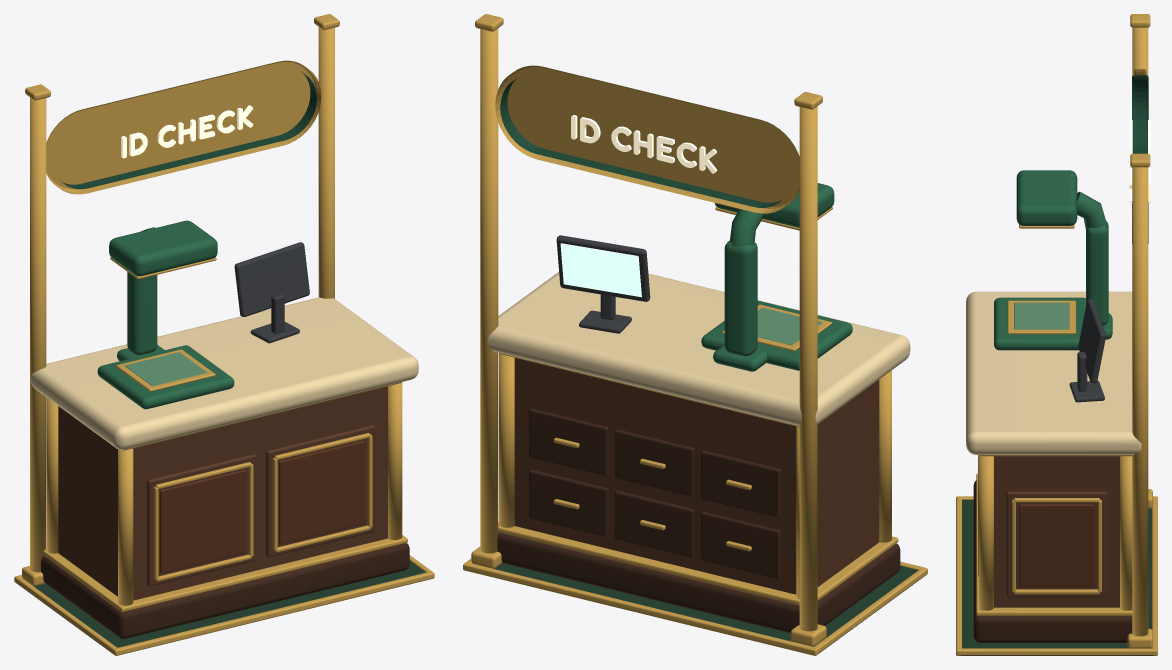
Rendered from security_booth_tier3.glb.
3 renders of one model, left to right at view 1: azimuth 30°, elevation 25°; view 2: azimuth 150°, elevation 25°; view 3: azimuth 270°, elevation 25°, orthographic. The views are drawn at different scales.
Visible parts, largest first — view 1: Top, Body, SignBorder, Plinth, RearPost-1, Front0Inset, Front1Inset, RearPost1, LampHead, Monitor, PlinthBrass, Mat (+13 smaller); view 2: Body, Top, SignBorder, Plinth, RearPost-1, RearPost1, PlinthBrass, Drawer20, Drawer21, Drawer01, Drawer10, Drawer11 (+18 smaller); view 3: Top, Body, RearPost1, EndInset, Plinth, Mat, LampHead, End, ScanPad, Column1-1, Column11, ArmCol (+17 smaller).
Part boxes in pixels (box(x1,y1,x2,y2)): Top: box(30, 297, 418, 449); Body: box(58, 386, 387, 600); SignBorder: box(46, 60, 321, 194); Plinth: box(41, 543, 409, 638); RearPost-1: box(30, 97, 46, 572); Front0Inset: box(160, 469, 246, 573); Front1Inset: box(279, 440, 365, 544); RearPost1: box(318, 27, 334, 298); LampHead: box(109, 220, 217, 276); Monitor: box(234, 242, 309, 316); PlinthBrass: box(43, 535, 407, 612); Mat: box(16, 561, 425, 655); Body: box(514, 358, 879, 594); Top: box(487, 272, 910, 426); SignBorder: box(495, 65, 799, 213); Plinth: box(497, 532, 900, 633); RearPost-1: box(799, 106, 817, 631); RearPost1: box(480, 28, 498, 553); PlinthBrass: box(498, 522, 898, 605); Drawer20: box(528, 469, 608, 536); Drawer21: box(528, 408, 608, 475); Drawer01: box(701, 450, 780, 517); Drawer10: box(615, 490, 694, 557); Drawer11: box(615, 429, 694, 496); Top: box(966, 291, 1141, 454); Body: box(994, 456, 1119, 607); RearPost1: box(1132, 167, 1148, 636); EndInset: box(1019, 504, 1094, 586); Plinth: box(973, 480, 1132, 642); Mat: box(960, 499, 1153, 655); LampHead: box(1016, 170, 1077, 225); End: box(1006, 491, 1107, 597); ScanPad: box(994, 297, 1085, 350); Column1-1: box(978, 455, 993, 610); Column11: box(1120, 456, 1132, 610); ArmCol: box(1086, 221, 1108, 325).
Bounding box in the file's own units: 1.45 × 2.15 × 0.8001.
